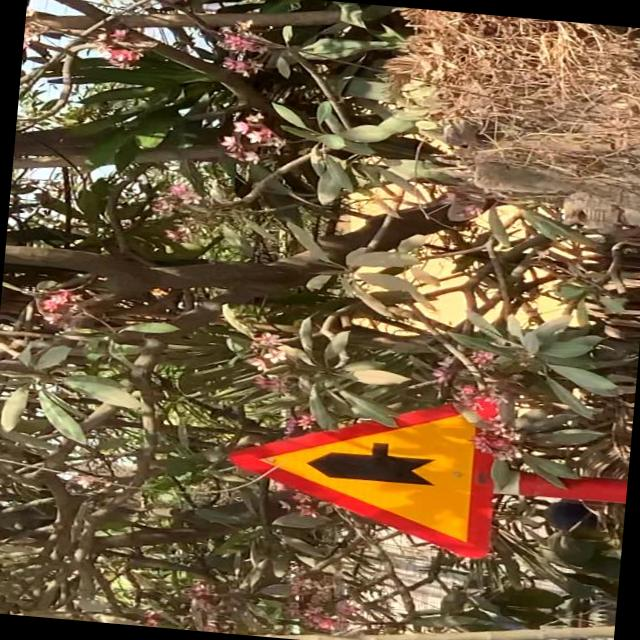W-207b: (218, 380, 503, 562)
